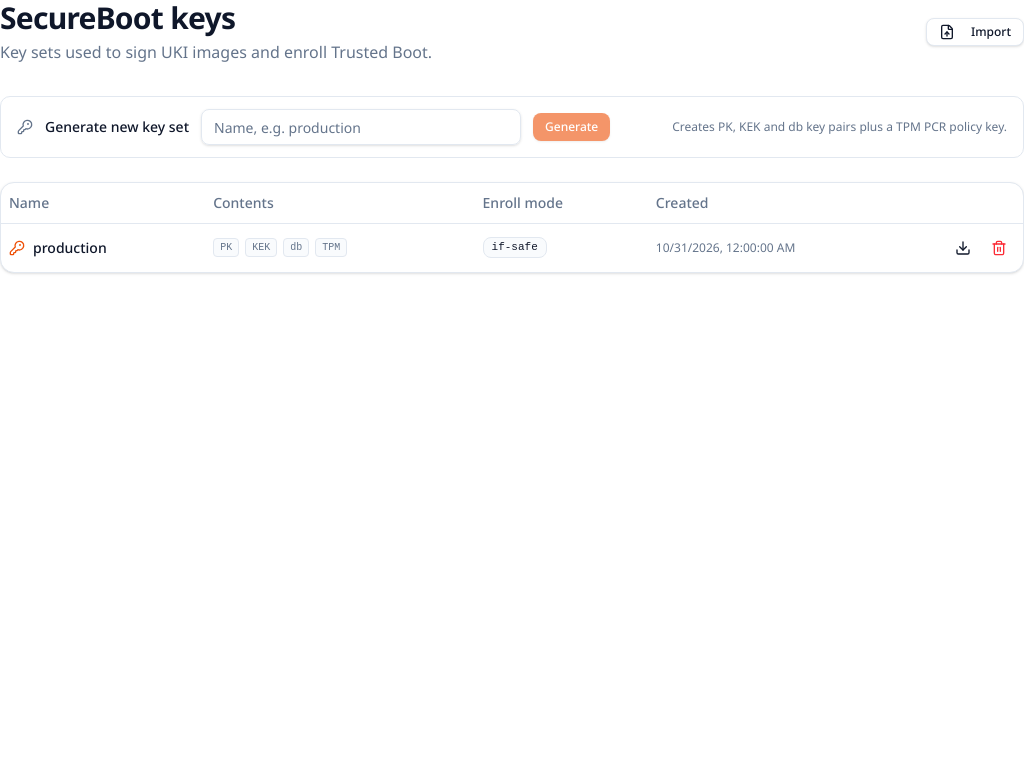
Scenario: Certificates page errors › shows the server's error when removing a key set fails
Click the button titled "Delete" at [999, 248], box [983,232,1015,264]
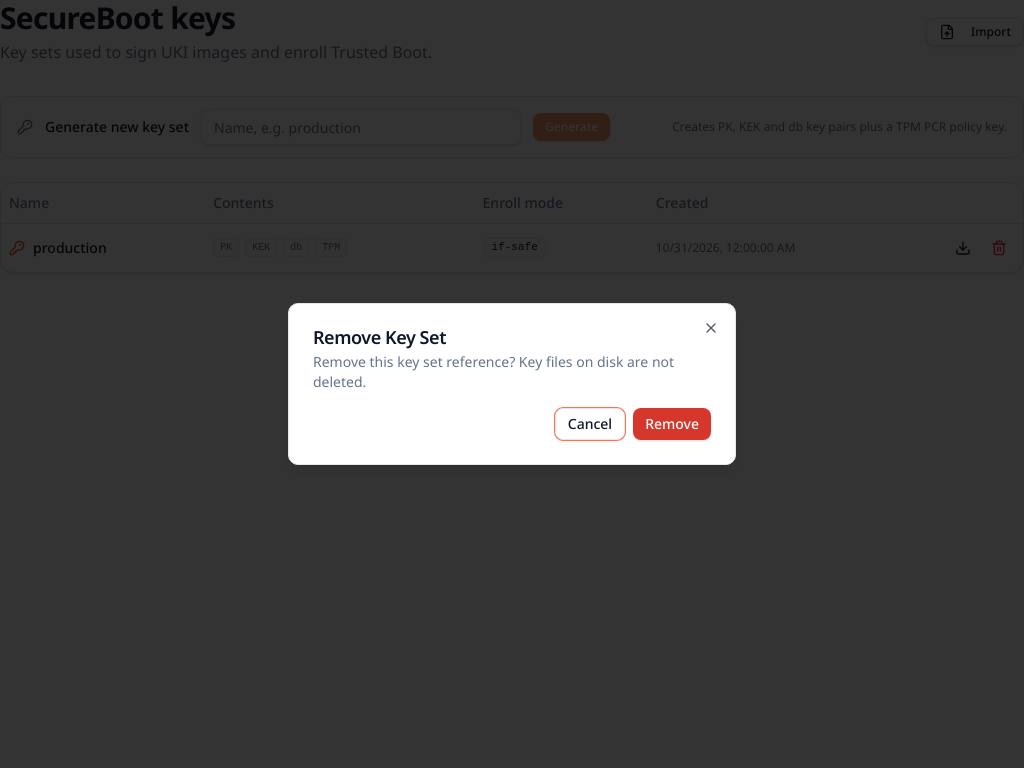
Click the button "Remove" at [672, 424], box [633,408,711,440]
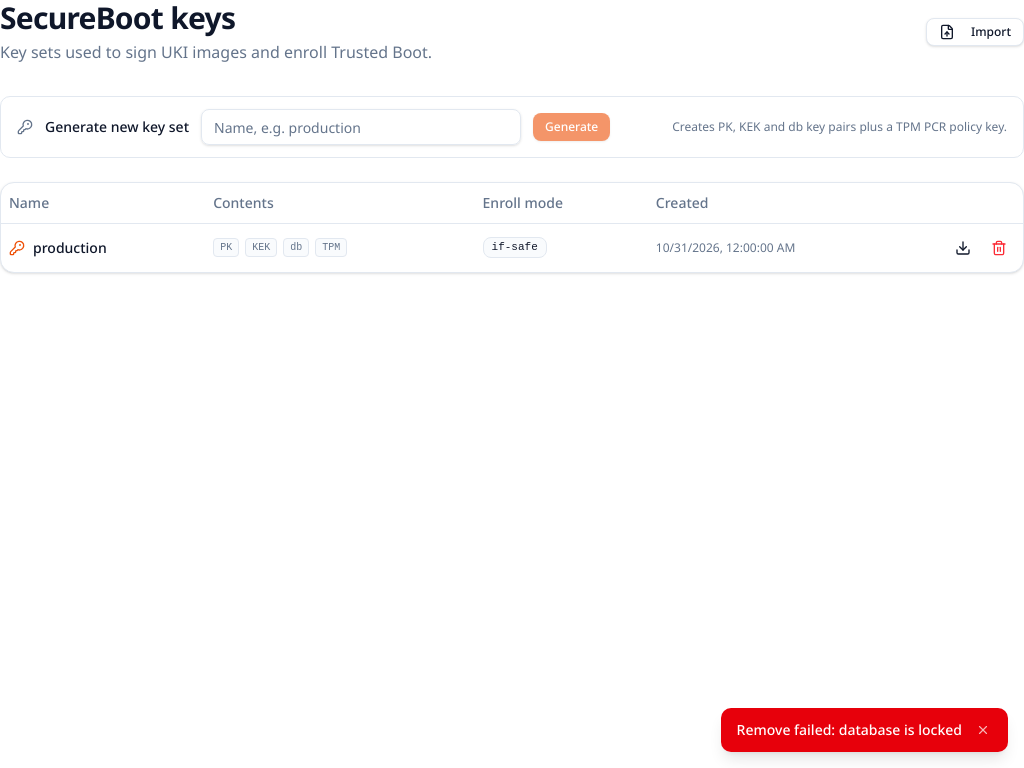
Expected: the text "Remove failed: database is locked" is shown, [737,720,962,740]
